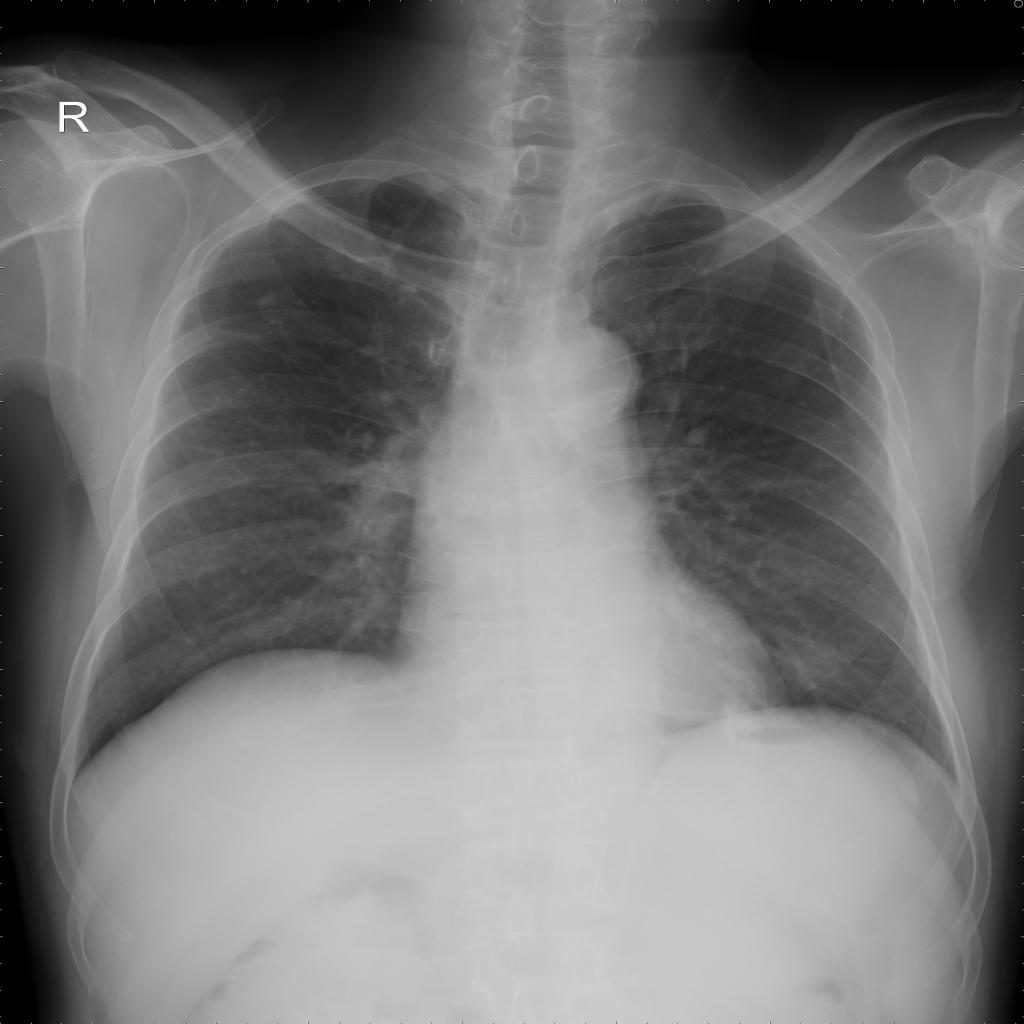Nodule: (259, 291, 283, 308)
